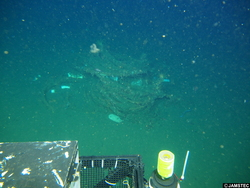fishing net: (44, 40, 174, 120)
